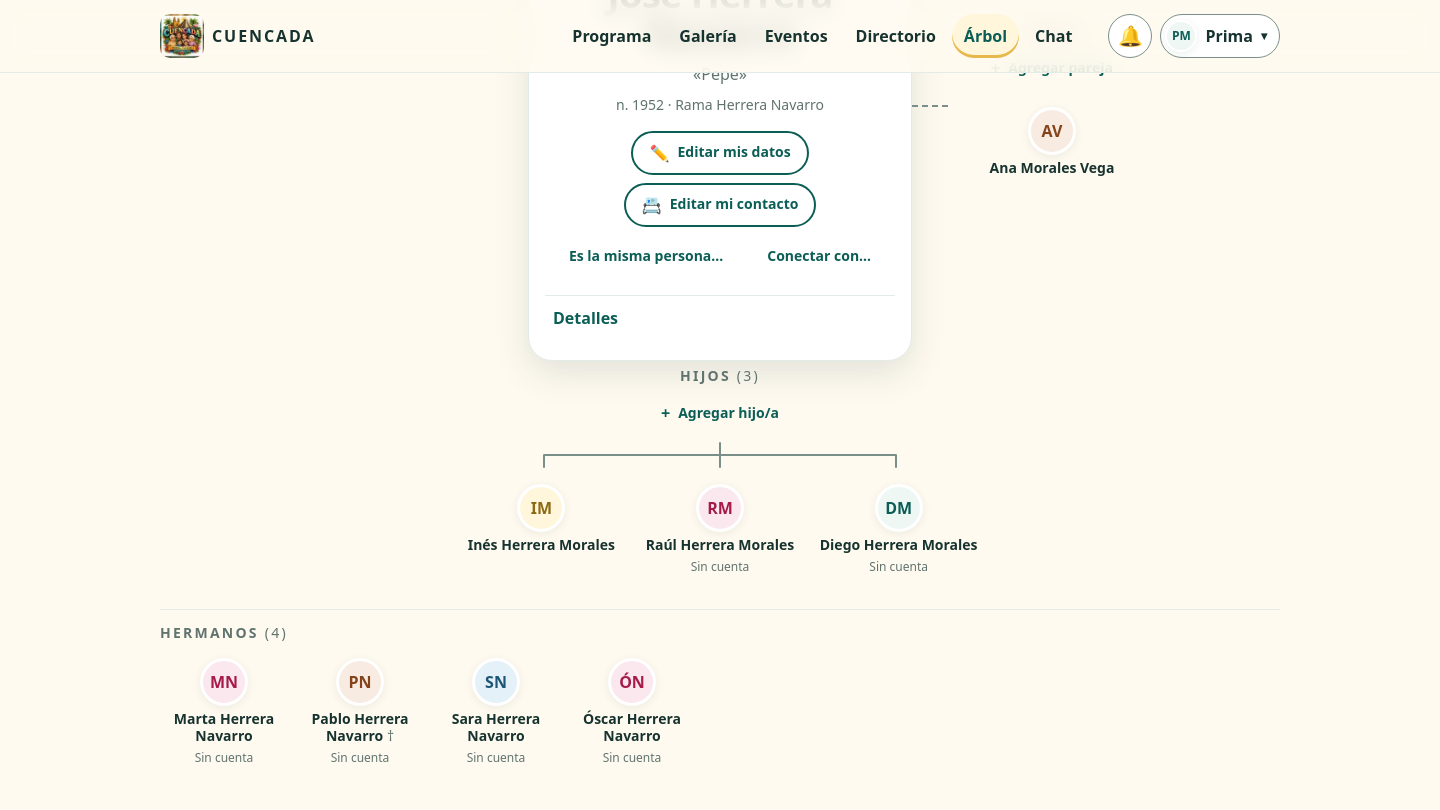
adding relatives as a member › shows the server's reason when the anchor is outside the member's circle (403)
(page scrolled)
Step 1. Click the button "+ Agregar hijo/a" → (720, 414), box x1=643 y1=392 x2=797 y2=436
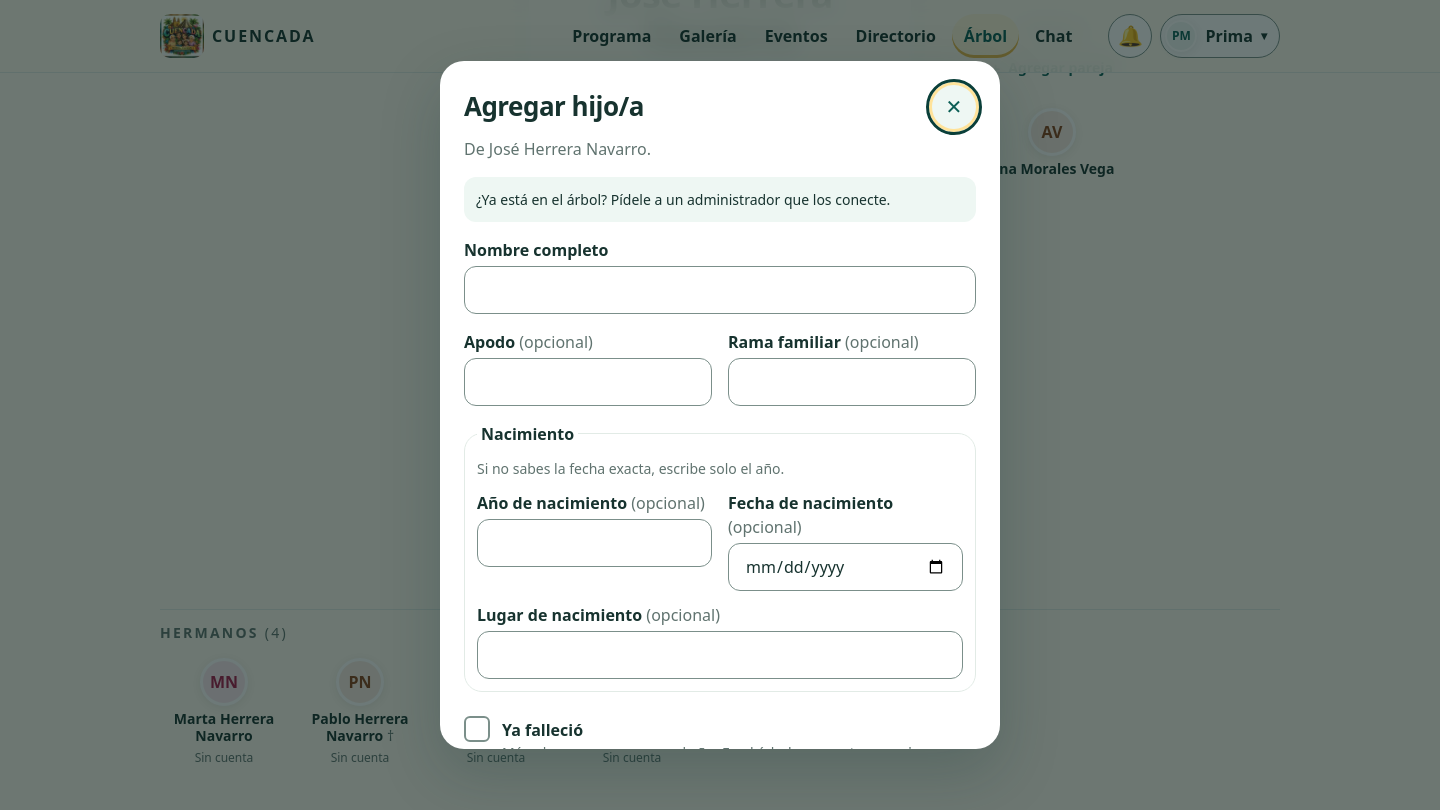
Step 2. Type "Hijo Nuevo" into the field labelled "Nombre completo" → (720, 290), box x1=464 y1=266 x2=976 y2=314
(page scrolled)
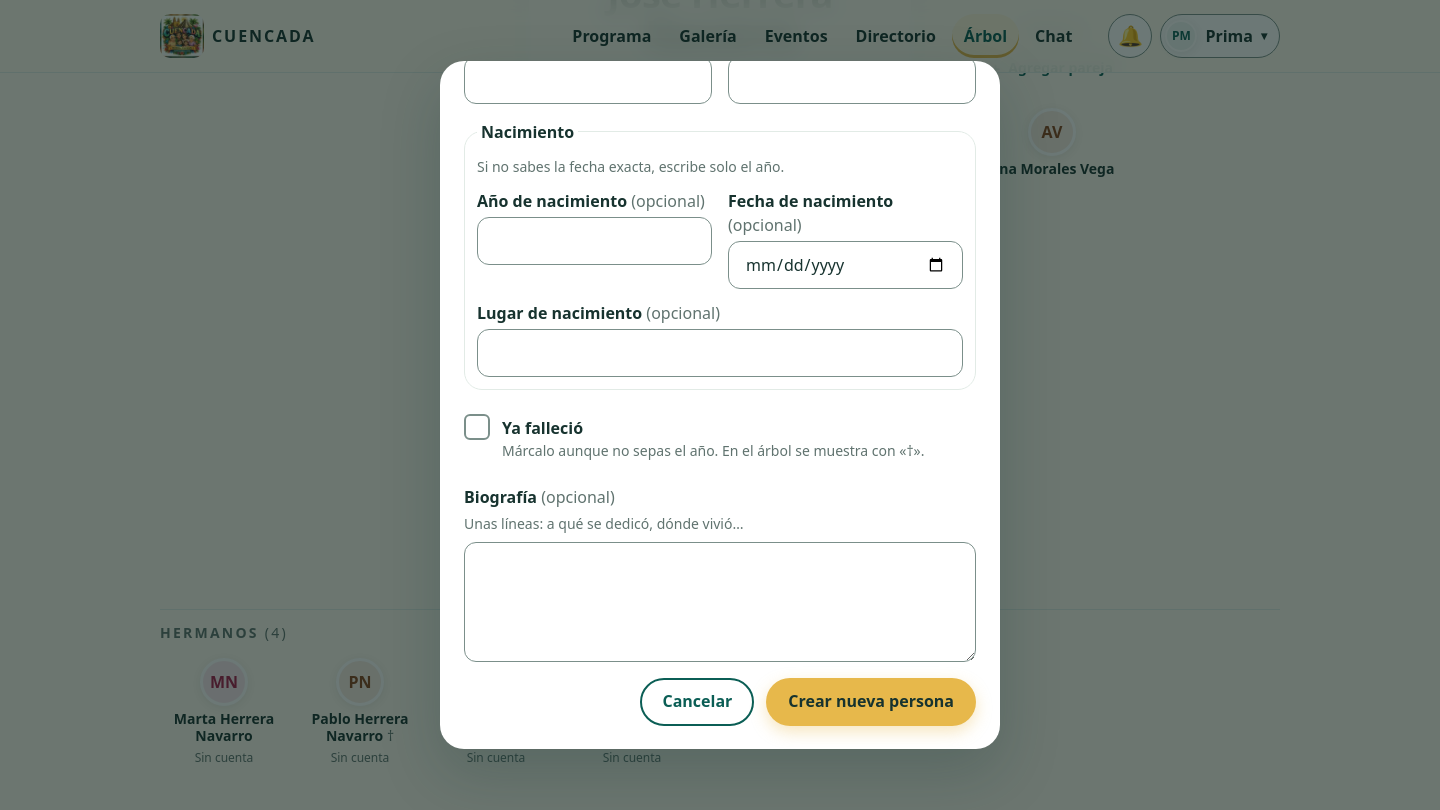
Step 3. Click the button "Crear nueva persona" → (871, 702), box x1=766 y1=678 x2=976 y2=726
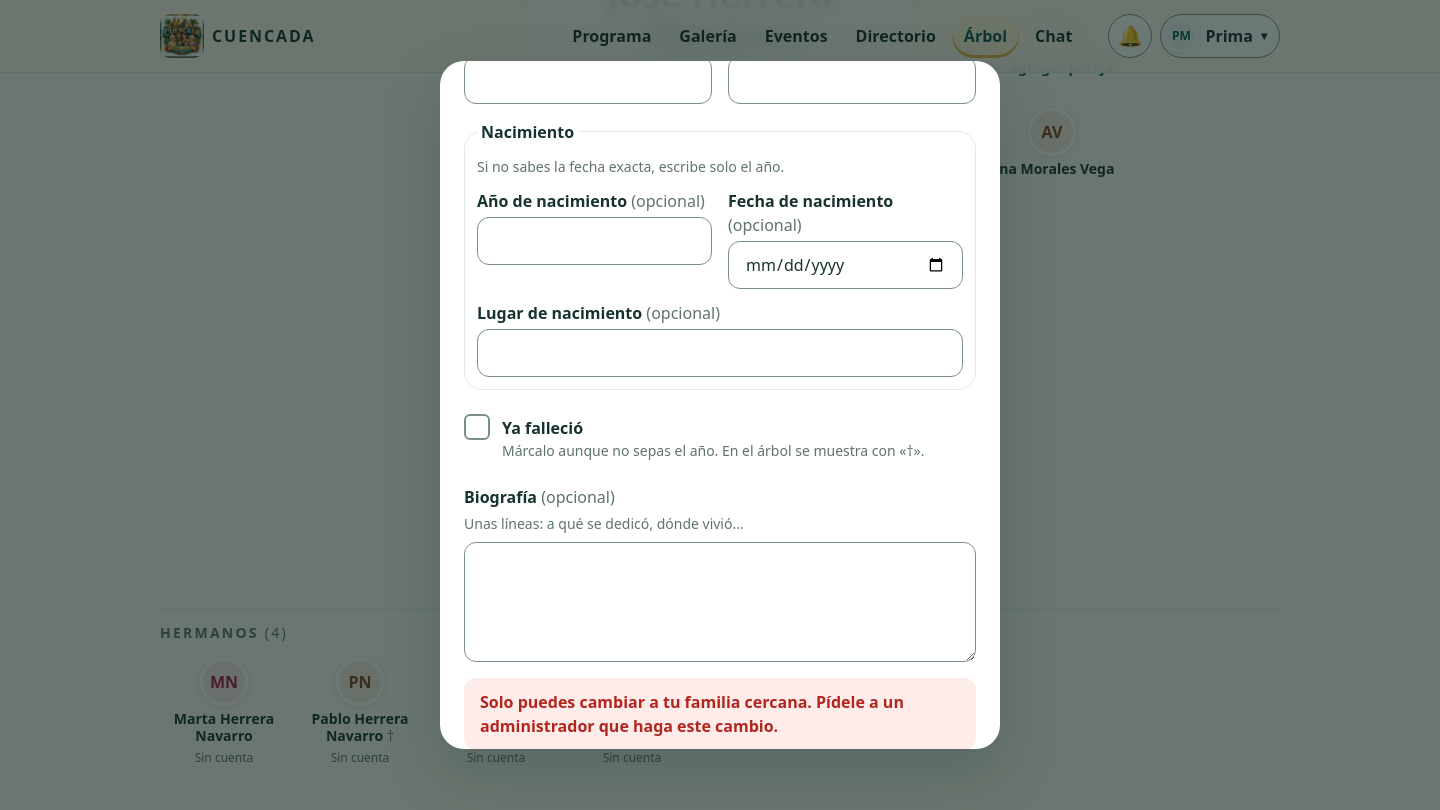
Expected: the message shows "Solo puedes cambiar a tu familia cercana. Pídele a un administrador que haga este cambio.", x1=480 y1=691 x2=904 y2=737
